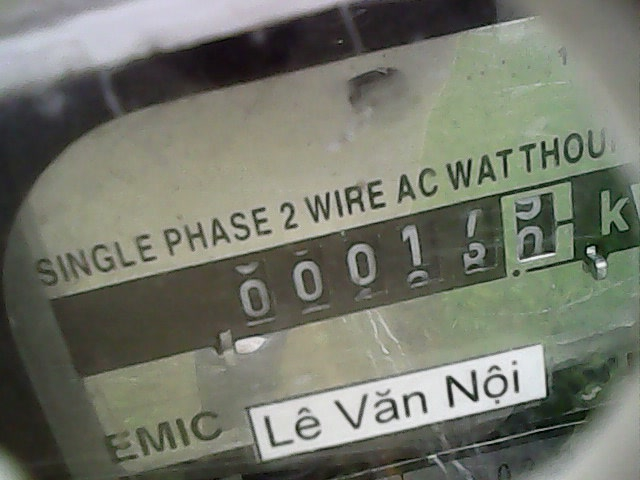phy_plate: (223, 176, 582, 326)
